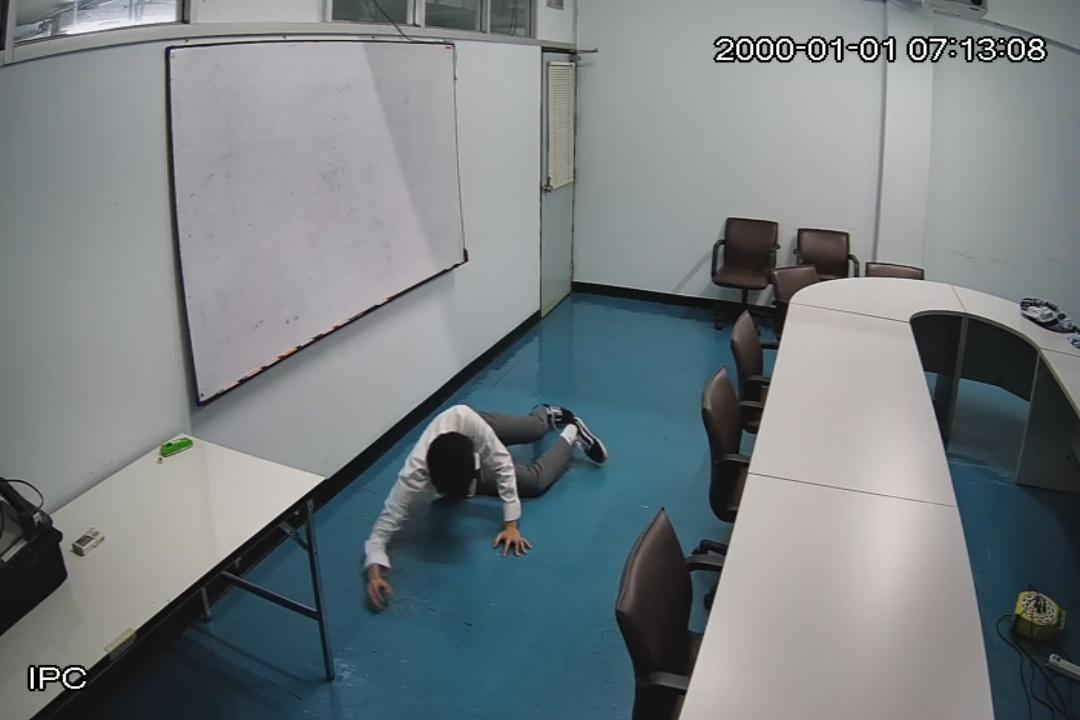fall: (352, 400, 612, 608)
